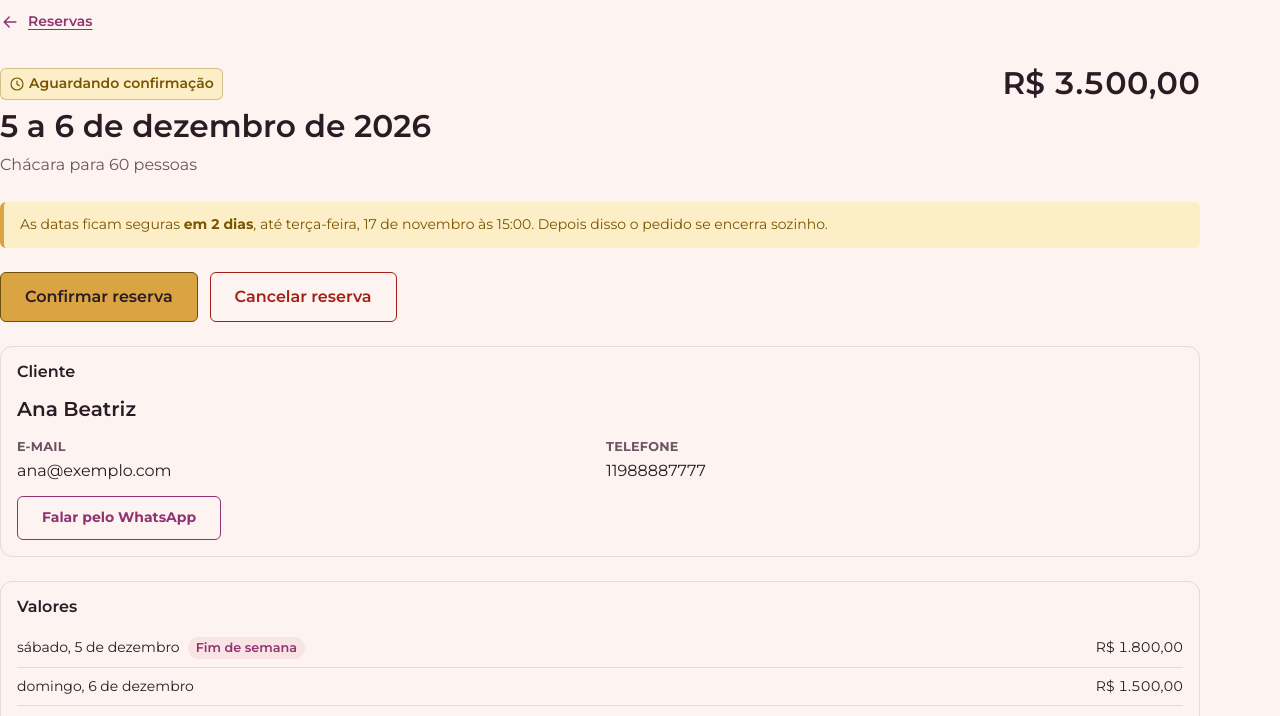
BookingDetailPage, painel › não deixa cancelar sem motivo
Click the button "Cancelar reserva".
click(303, 297)  # box [210,272,397,322]
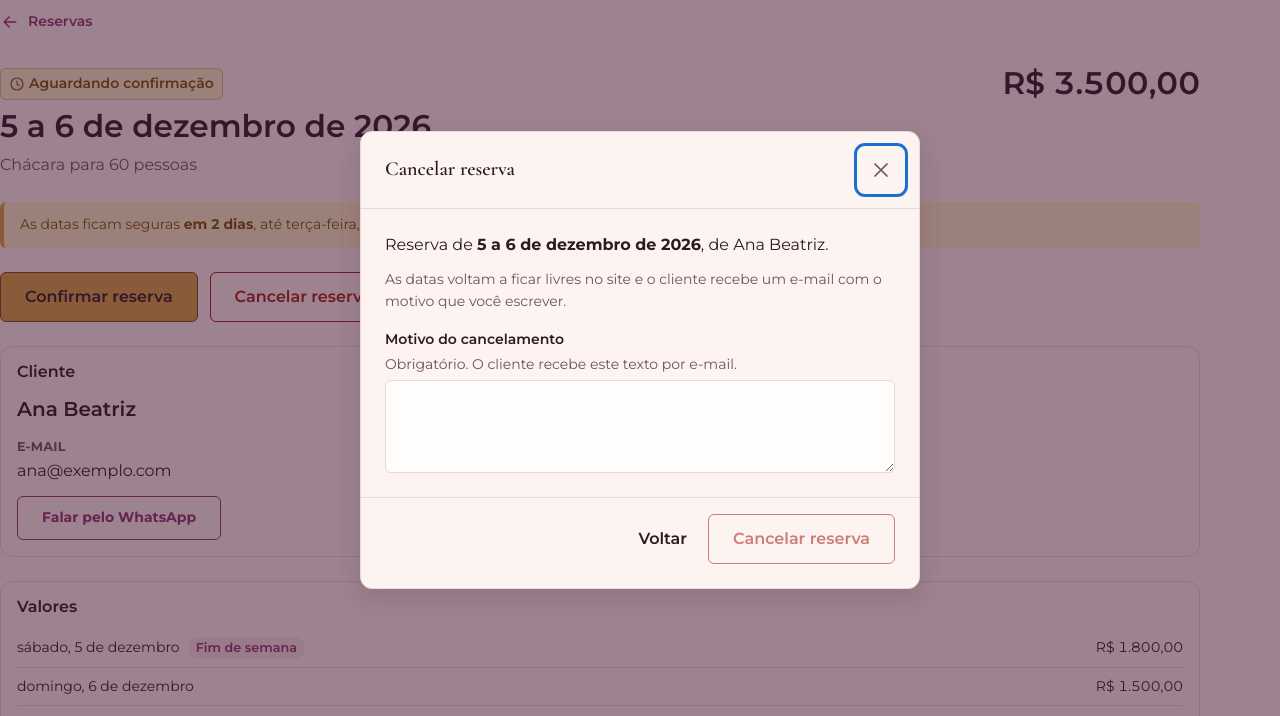
Expected: the button "Cancelar reserva" is disabled, [708,514,895,564]
